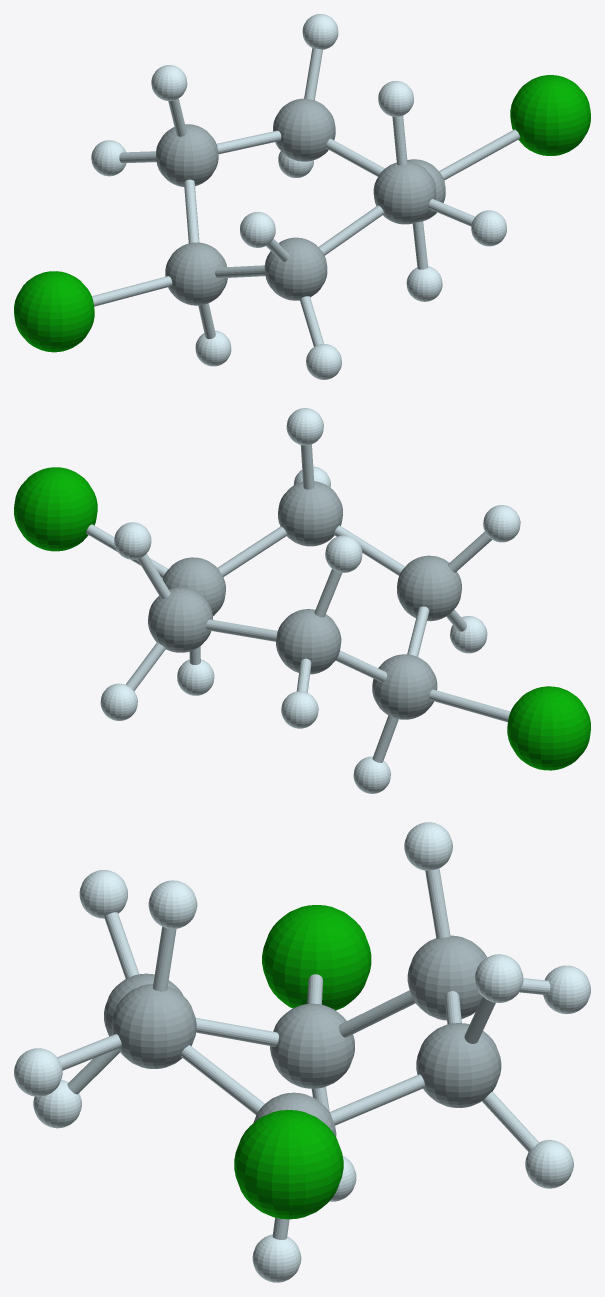
The model's file is irc_step_248.glb.
3 renders of one model, top to bottom at view 1: azimuth 30°, elevation 25°; view 2: azimuth 150°, elevation 25°; view 3: azimuth 270°, elevation 25°, orthographic. The views are drawn at different scales.
Visible parts, largest first — view 1: Renderer Node; view 2: Renderer Node; view 3: Renderer Node.
Part boxes in pixels (box(x1,y1,x2,y2)): Renderer Node: box(14, 14, 590, 379); Renderer Node: box(14, 408, 590, 793); Renderer Node: box(14, 822, 590, 1282).
Bounding box in the file's own units: 7.11 × 3.61 × 4.73.
